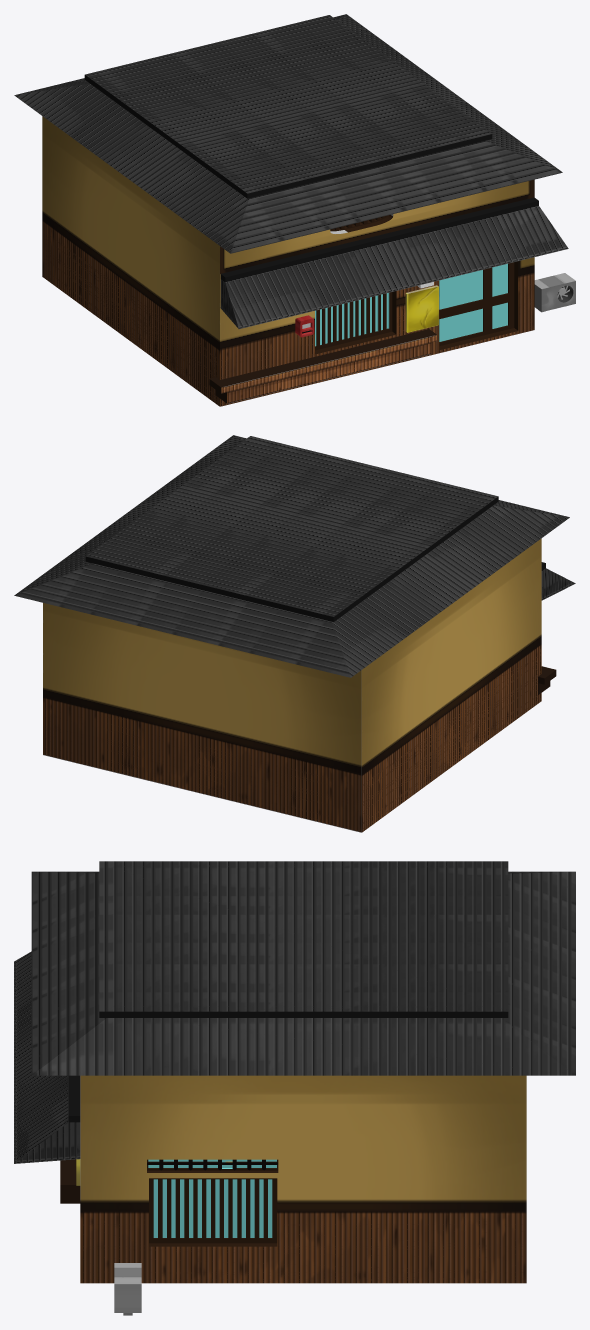
The model's file is House_2_Yellow_empty.fbx.
3 views of the same model, one above another, from view 1: azimuth 30°, elevation 25°; view 2: azimuth 150°, elevation 25°; view 3: azimuth 270°, elevation 25° (orthographic). The views are drawn at different scales.
Parts seen in each view (by area): view 1: Top, building, Cube.015, Cube.030, Cube.011, Cube.014, Cube.010, Cube.016, Cube.008; view 2: building, Top, Cube.015; view 3: Top, building, Cube.019, Cube.015, Cube.013, Cube.008, Cube.030.
Part boxes in pixels (x1,y1,x2,y2): Top: (14, 14, 562, 253); building: (42, 116, 534, 406); Cube.015: (220, 197, 568, 329); Cube.030: (209, 329, 436, 403); Cube.011: (439, 269, 487, 346); Cube.014: (315, 292, 392, 350); Cube.010: (487, 262, 514, 334); Cube.016: (405, 285, 438, 332); Cube.008: (534, 273, 575, 312); building: (43, 538, 541, 832); Top: (14, 435, 569, 677); Cube.015: (541, 562, 575, 600); Top: (31, 861, 575, 1075); building: (80, 1075, 526, 1283); Cube.019: (149, 1178, 277, 1243); Cube.015: (14, 951, 80, 1163); Cube.013: (147, 1159, 278, 1170); Cube.008: (114, 1263, 141, 1315); Cube.030: (60, 1159, 80, 1203).
Size of the model in its own units: 1609 by 812 by 1647.
